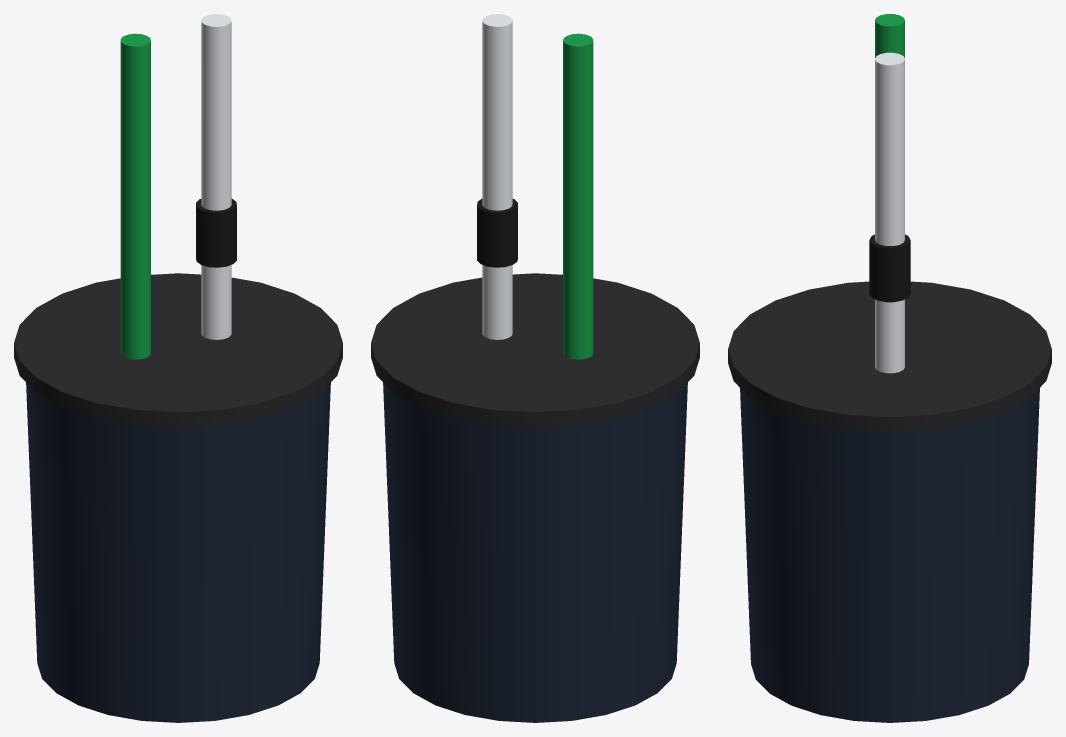
The model's file is sewage-ejector-basin.glb.
3 renders of one model, left to right at view 1: azimuth 30°, elevation 25°; view 2: azimuth 150°, elevation 25°; view 3: azimuth 270°, elevation 25°, orthographic.
Parts seen in each view (by area): view 1: plumbing-equipment-sewage-ejector; view 2: plumbing-equipment-sewage-ejector; view 3: plumbing-equipment-sewage-ejector.
Boxes of the visible parts, <box> form: plumbing-equipment-sewage-ejector: <box>14,14,342,722</box>; plumbing-equipment-sewage-ejector: <box>371,14,699,722</box>; plumbing-equipment-sewage-ejector: <box>728,14,1051,722</box>.
Bounding box in the file's own units: 0.6 × 1.27 × 0.6.
